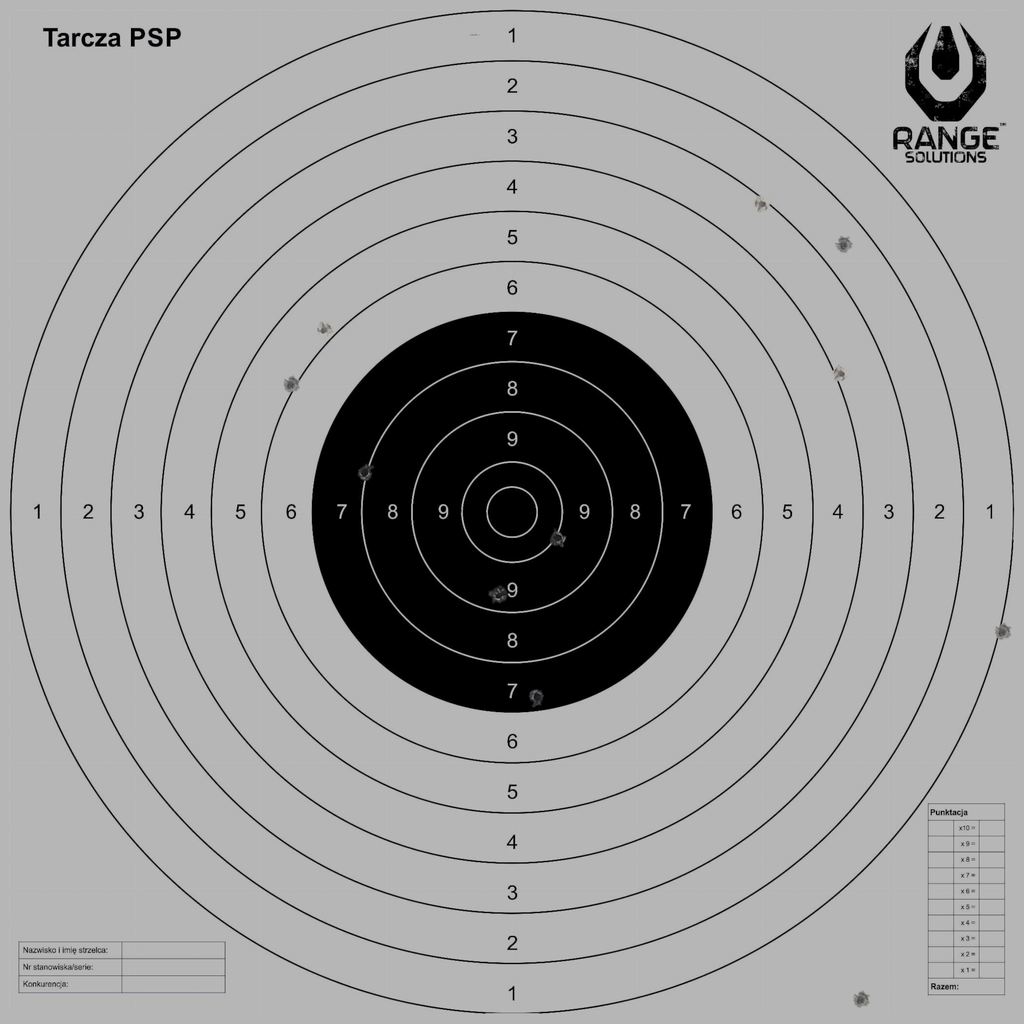0 punktow: (852, 991, 870, 1009)
1 punkt: (993, 623, 1012, 641)
10 punktow: (549, 529, 567, 547)
2 punkty: (834, 236, 853, 254)
3 punkty: (753, 195, 772, 214)
4 punkty: (832, 365, 850, 383)
5 punktow: (315, 321, 333, 339)
6 punktow: (282, 376, 300, 394)
7 punktow: (528, 688, 546, 706)
8 punktow: (356, 463, 374, 482)
9 punktow: (489, 586, 508, 605)
